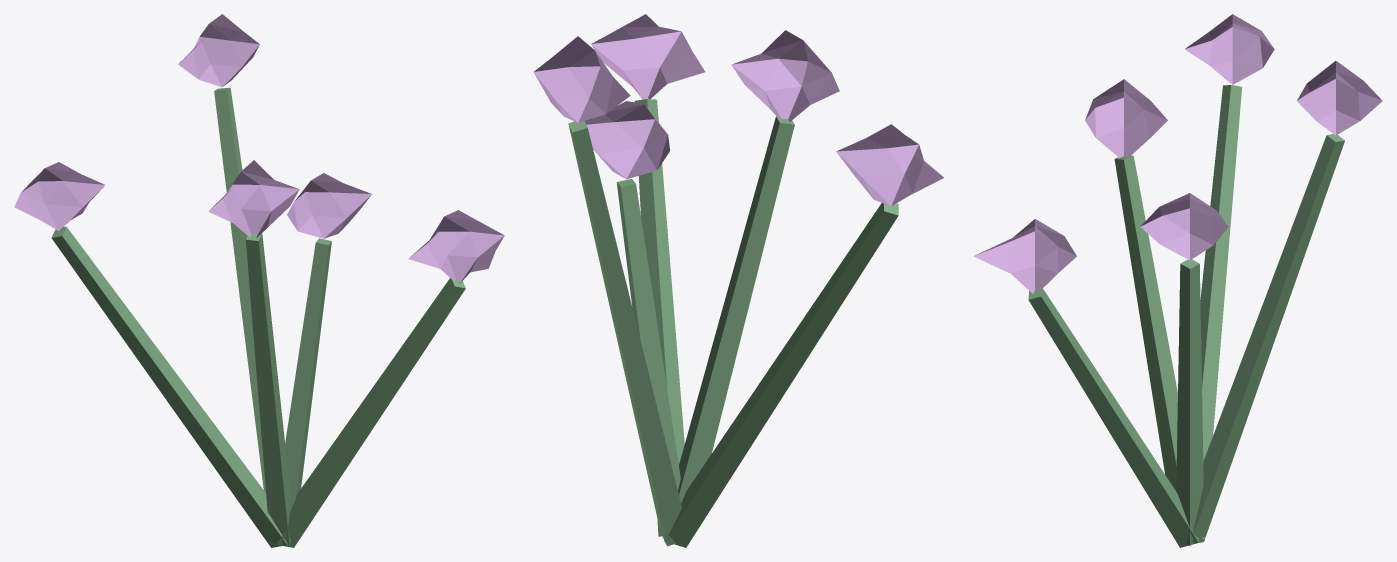
The model's file is flower_v27.glb.
3 views of the same model, side by side, from view 1: azimuth 30°, elevation 25°; view 2: azimuth 150°, elevation 25°; view 3: azimuth 270°, elevation 25° (orthographic). The views are drawn at different scales.
Visible parts, largest first — view 1: lod0; view 2: lod0; view 3: lod0.
Part boxes in pixels (x1,y1,x2,y2): lod0: [14, 14, 504, 547]; lod0: [533, 14, 943, 547]; lod0: [973, 14, 1382, 547].
Size of what is drawn, in the model's own units: 0.5742 by 0.6645 by 0.5037.
